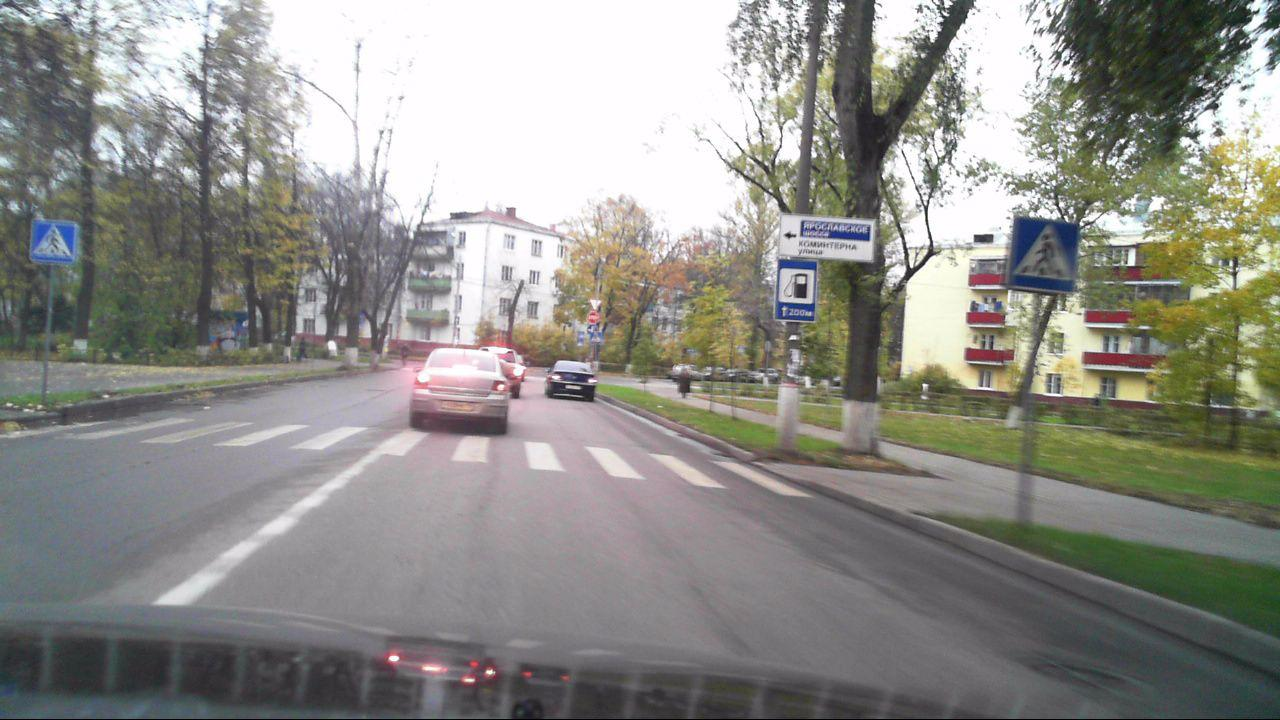road_sign: (1009, 215, 1079, 296), (775, 258, 819, 322), (26, 217, 79, 265)
